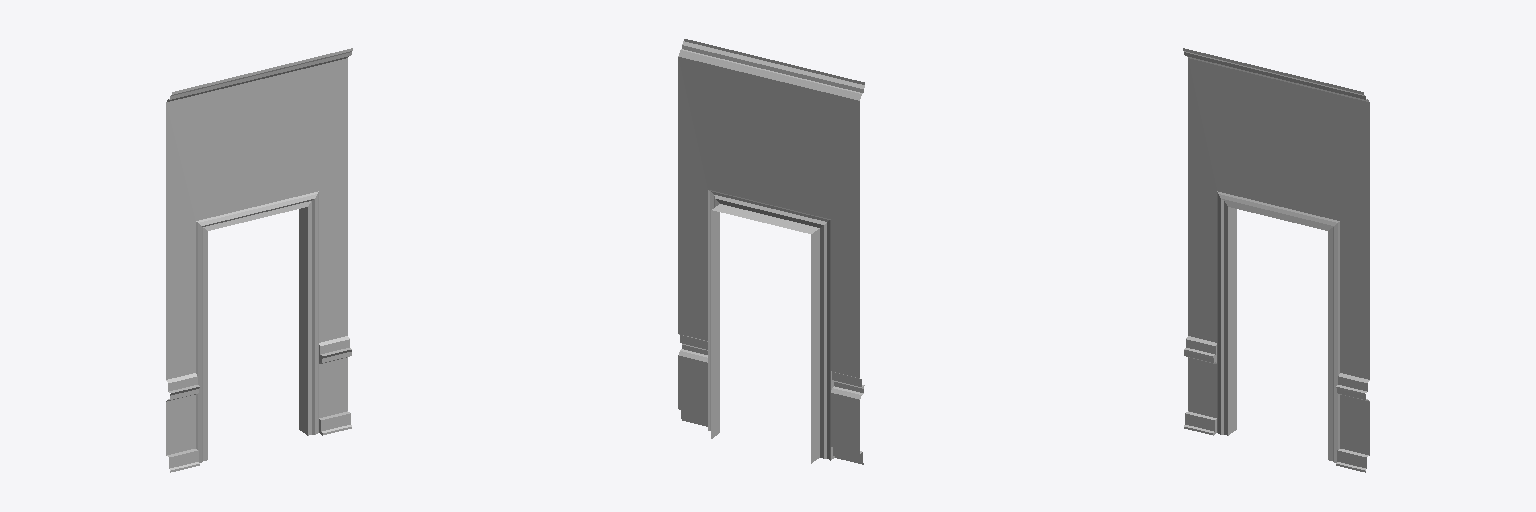
File: DoorFrame.obj
The picture shows the model from 3 angles: view 1: azimuth 30°, elevation 25°; view 2: azimuth 150°, elevation 25°; view 3: azimuth 330°, elevation 25°; orthographic projection.
Visible parts, largest first — view 1: Walls_Wall_01_001; view 2: Walls_Wall_01_001; view 3: Walls_Wall_01_001.
Part boxes in pixels (x1,y1,x2,y2): Walls_Wall_01_001: (166,48,352,472); Walls_Wall_01_001: (678,39,864,464); Walls_Wall_01_001: (1183,48,1369,472).
Size of the model in its own units: 200 by 401 by 24.92.